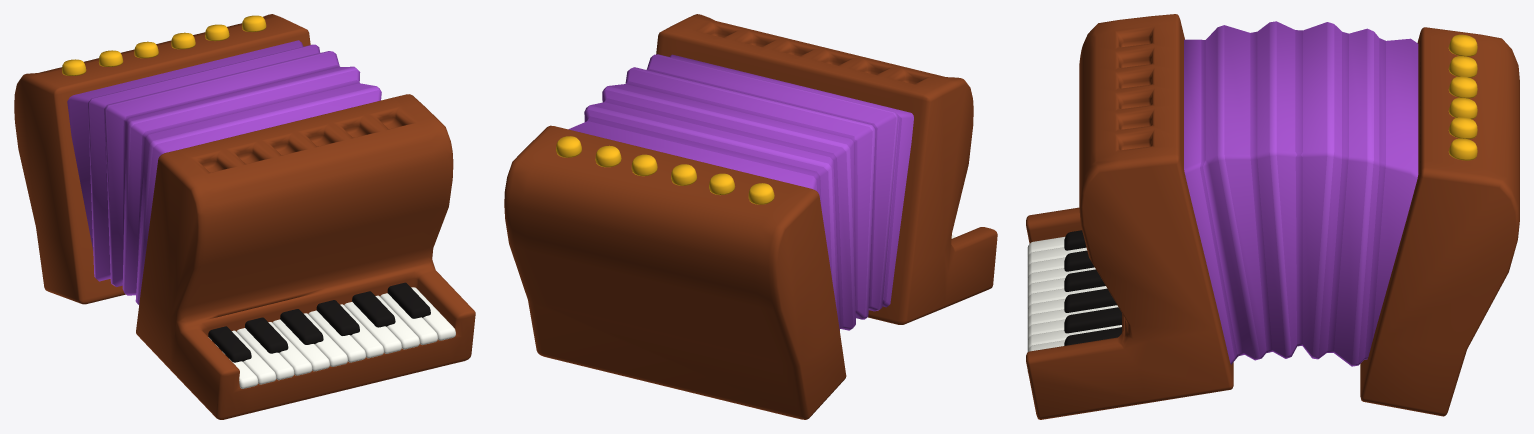
Rendered from accordion.fbx.
3 views of the same model, side by side, from view 1: azimuth 30°, elevation 25°; view 2: azimuth 150°, elevation 25°; view 3: azimuth 270°, elevation 25° (orthographic). The views are drawn at different scales.
Parts seen in each view (by area): view 1: accordion; view 2: accordion; view 3: accordion.
Boxes of the visible parts, left/top/right/bottom form: accordion: left=14, top=14, right=475, bottom=419; accordion: left=504, top=14, right=997, bottom=419; accordion: left=1026, top=14, right=1519, bottom=419.
Size of the model in its own units: 1.81 by 1.51 by 2.56.
